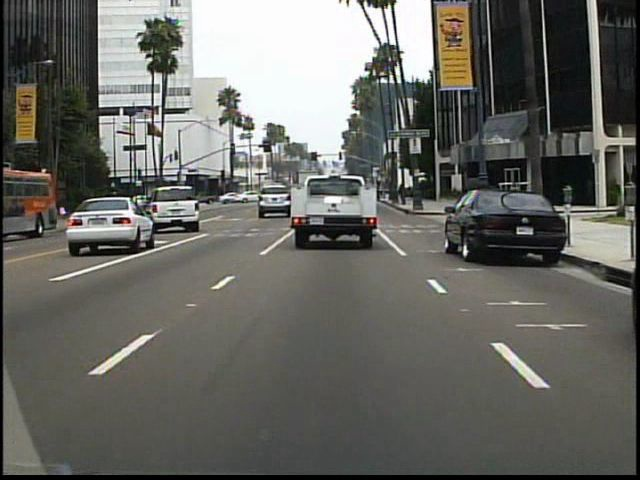person: (531, 176, 546, 212)
